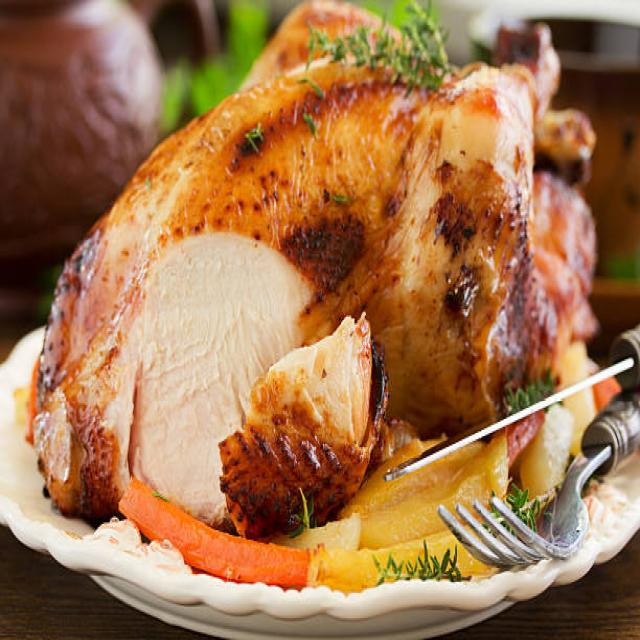Frango: (30, 0, 603, 577)
